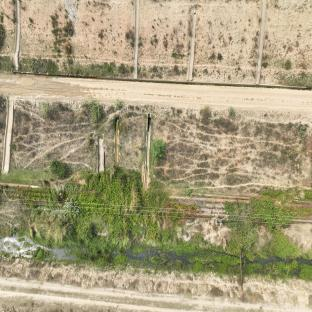slope_drain: (255, 0, 266, 85), (1, 96, 13, 173), (187, 10, 197, 81), (143, 114, 151, 190), (13, 0, 20, 71), (133, 0, 139, 79), (115, 118, 119, 168)
toe_drain: (14, 71, 311, 90)
vegetation: (43, 171, 145, 258), (95, 133, 105, 184), (49, 160, 71, 183), (152, 139, 166, 161), (91, 105, 104, 124)
